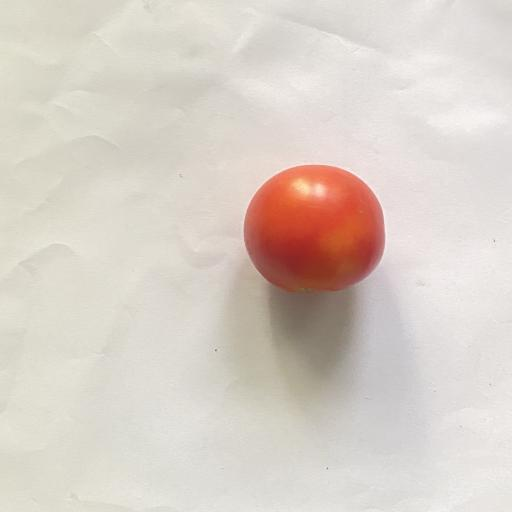ripe: (244, 165, 385, 292)
